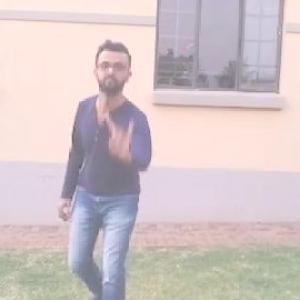takeoff-hand: (100, 106, 141, 166)
